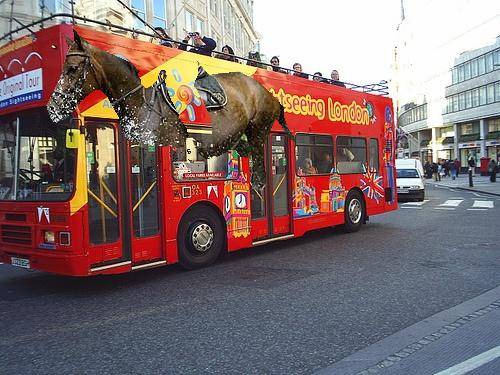tampered: (47, 30, 296, 224)
